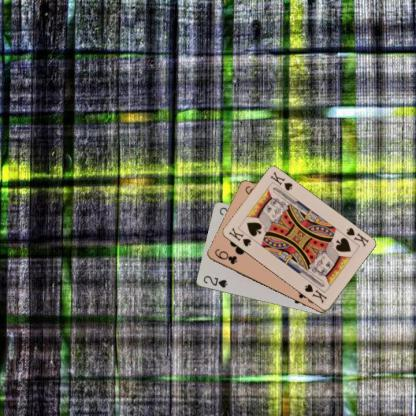2s: (201, 273, 228, 289)
6c: (212, 246, 238, 266)
Ks: (343, 225, 370, 248), (226, 225, 252, 248)
